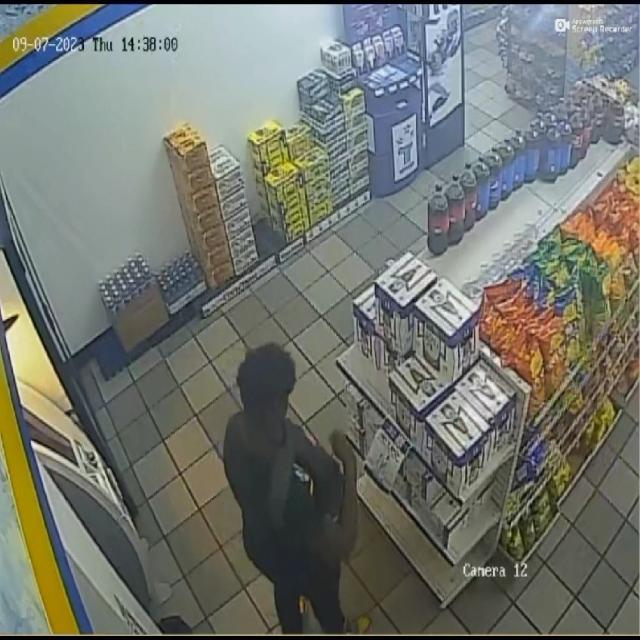Normal: (200, 329, 374, 640)
